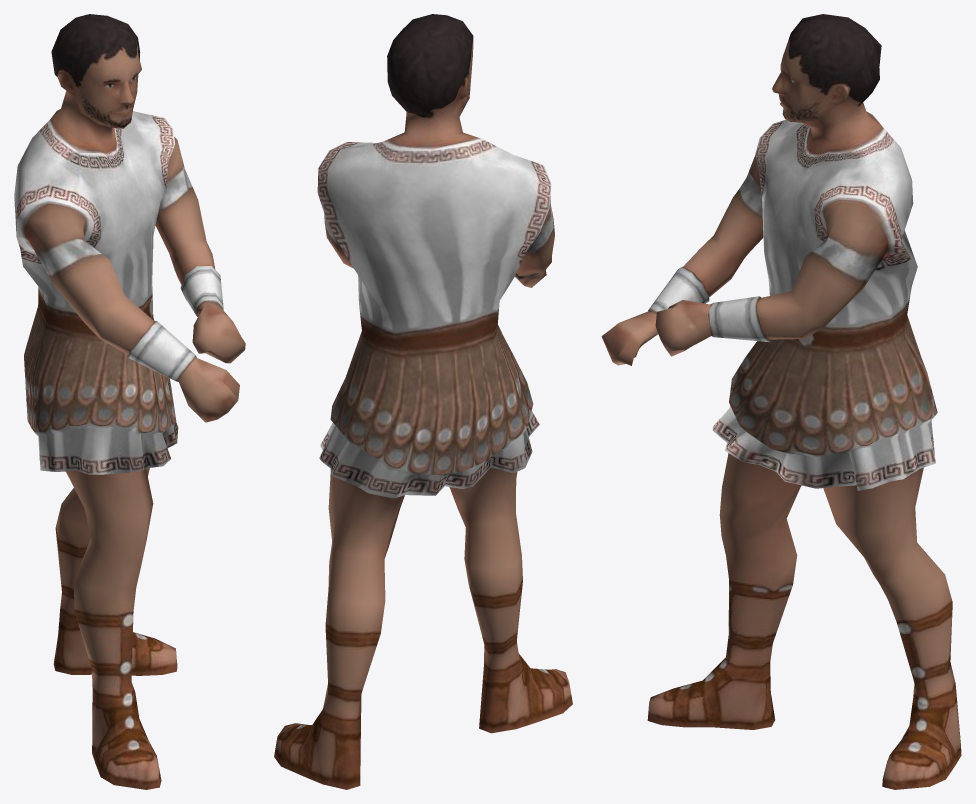
Rendered from body-base.glb.
The picture shows the model from 3 angles, left to right: view 1: azimuth 30°, elevation 25°; view 2: azimuth 150°, elevation 25°; view 3: azimuth 270°, elevation 25°; orthographic projection. The views are drawn at different scales.
Bounding box in the file's own units: 0.6406 × 2.06 × 0.9391.
1 material, 1 textured.
